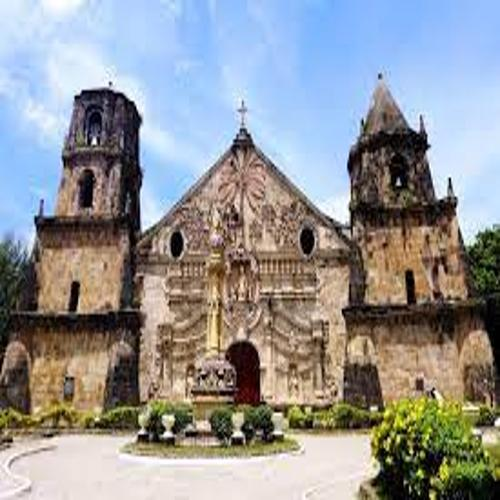Miagao Church: (6, 59, 499, 422)
